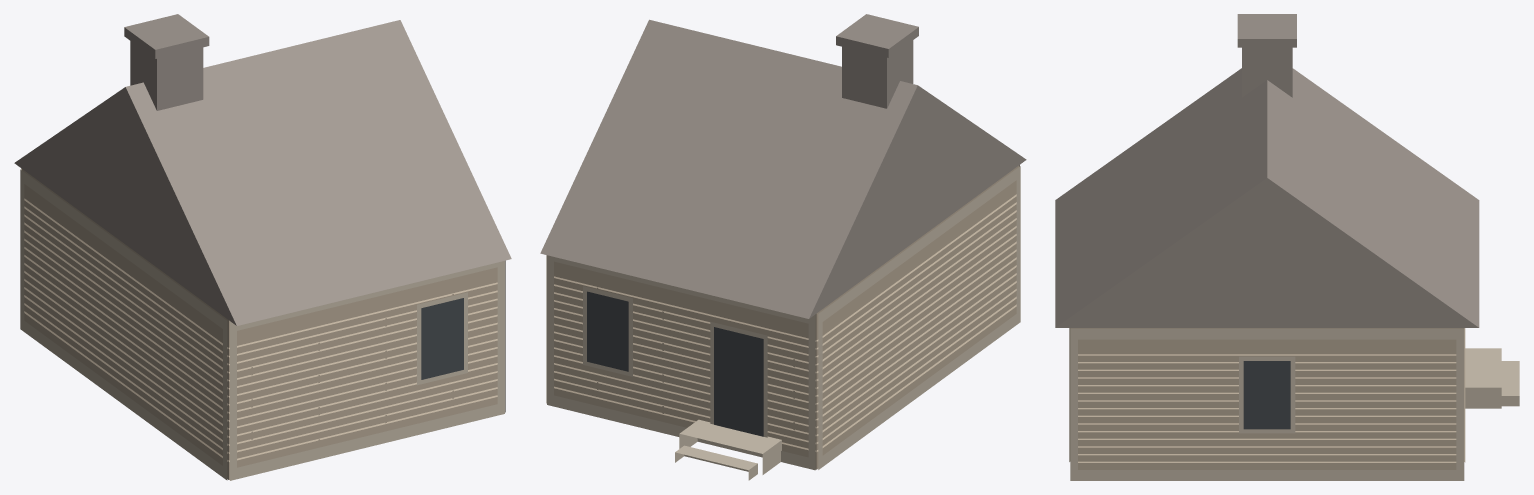
The model's file is recon_1835_south_d3_008__inferred_1835.glb.
The picture shows the model from 3 angles, left to right: view 1: azimuth 30°, elevation 25°; view 2: azimuth 150°, elevation 25°; view 3: azimuth 270°, elevation 25°; orthographic projection. The views are drawn at different scales.
Parts seen in each view (by area): view 1: recon_1835_south_d3_008__inferred_1835; view 2: recon_1835_south_d3_008__inferred_1835; view 3: recon_1835_south_d3_008__inferred_1835.
Part boxes in pixels (<box>): recon_1835_south_d3_008__inferred_1835: <box>14,14,511,480</box>; recon_1835_south_d3_008__inferred_1835: <box>540,14,1026,480</box>; recon_1835_south_d3_008__inferred_1835: <box>1055,14,1519,480</box>.
Size of the model in its own units: 5.08 by 6.3 by 7.69.
